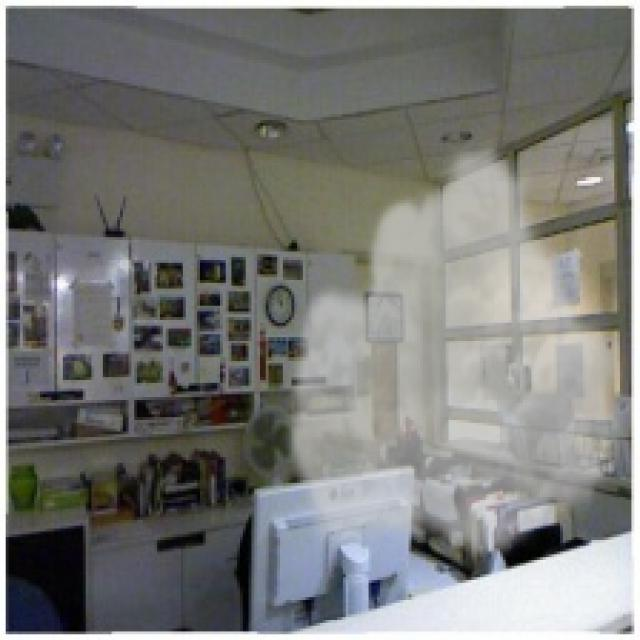smoke: (280, 137, 634, 563)
